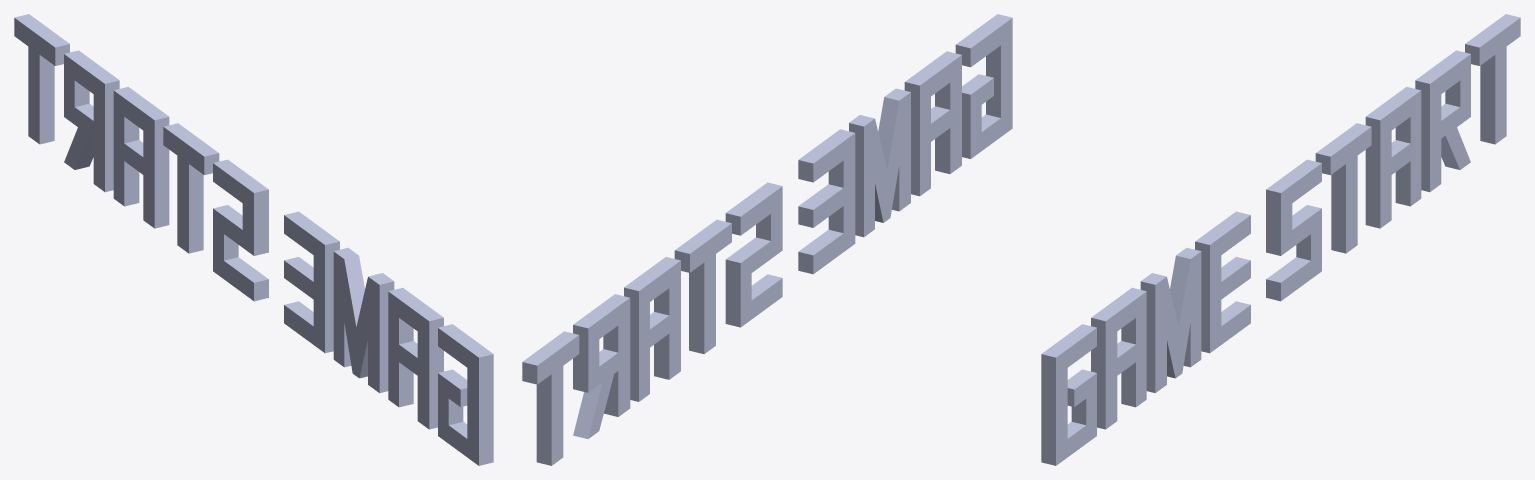
File: Game_Start.FBX
3 renders of one model, left to right at view 1: azimuth 30°, elevation 25°; view 2: azimuth 150°, elevation 25°; view 3: azimuth 330°, elevation 25°, orthographic. The views are drawn at different scales.
Visible parts, largest first — view 1: Boss-Extrude1[3], Boss-Extrude1[7], Boss-Extrude1[1], Boss-Extrude1[2], Boss-Extrude1[5], Boss-Extrude1[8], Boss-Extrude1[4], Boss-Extrude1[6], Boss-Extrude1[9]; view 2: Boss-Extrude1[3], Boss-Extrude1[8], Boss-Extrude1[4], Boss-Extrude1[5], Boss-Extrude1[2], Boss-Extrude1[7], Boss-Extrude1[1], Boss-Extrude1[9], Boss-Extrude1[6]; view 3: Boss-Extrude1[3], Boss-Extrude1[7], Boss-Extrude1[1], Boss-Extrude1[2], Boss-Extrude1[5], Boss-Extrude1[8], Boss-Extrude1[4], Boss-Extrude1[6], Boss-Extrude1[9].
Boxes of the visible parts, x1,y1,x2,y2 form: Boss-Extrude1[3]: [333, 247, 394, 393]; Boss-Extrude1[7]: [113, 86, 169, 228]; Boss-Extrude1[1]: [438, 324, 493, 465]; Boss-Extrude1[2]: [388, 287, 443, 429]; Boss-Extrude1[5]: [213, 159, 268, 301]; Boss-Extrude1[8]: [64, 50, 119, 192]; Boss-Extrude1[4]: [284, 211, 339, 353]; Boss-Extrude1[6]: [163, 123, 219, 253]; Boss-Extrude1[9]: [14, 14, 69, 144]; Boss-Extrude1[3]: [849, 88, 910, 237]; Boss-Extrude1[8]: [573, 294, 630, 438]; Boss-Extrude1[4]: [798, 129, 855, 274]; Boss-Extrude1[5]: [725, 182, 782, 327]; Boss-Extrude1[2]: [904, 51, 961, 196]; Boss-Extrude1[7]: [624, 257, 680, 401]; Boss-Extrude1[1]: [955, 14, 1012, 158]; Boss-Extrude1[9]: [522, 331, 579, 465]; Boss-Extrude1[6]: [674, 219, 731, 353]; Boss-Extrude1[3]: [1140, 247, 1201, 393]; Boss-Extrude1[7]: [1365, 86, 1421, 228]; Boss-Extrude1[1]: [1041, 324, 1096, 465]; Boss-Extrude1[2]: [1091, 287, 1146, 429]; Boss-Extrude1[5]: [1266, 159, 1321, 301]; Boss-Extrude1[8]: [1415, 50, 1470, 192]; Boss-Extrude1[4]: [1195, 211, 1250, 353]; Boss-Extrude1[6]: [1315, 123, 1371, 253]; Boss-Extrude1[9]: [1465, 14, 1520, 144].
Size of the model in its own units: 0.1 by 0.7002 by 5.45.
